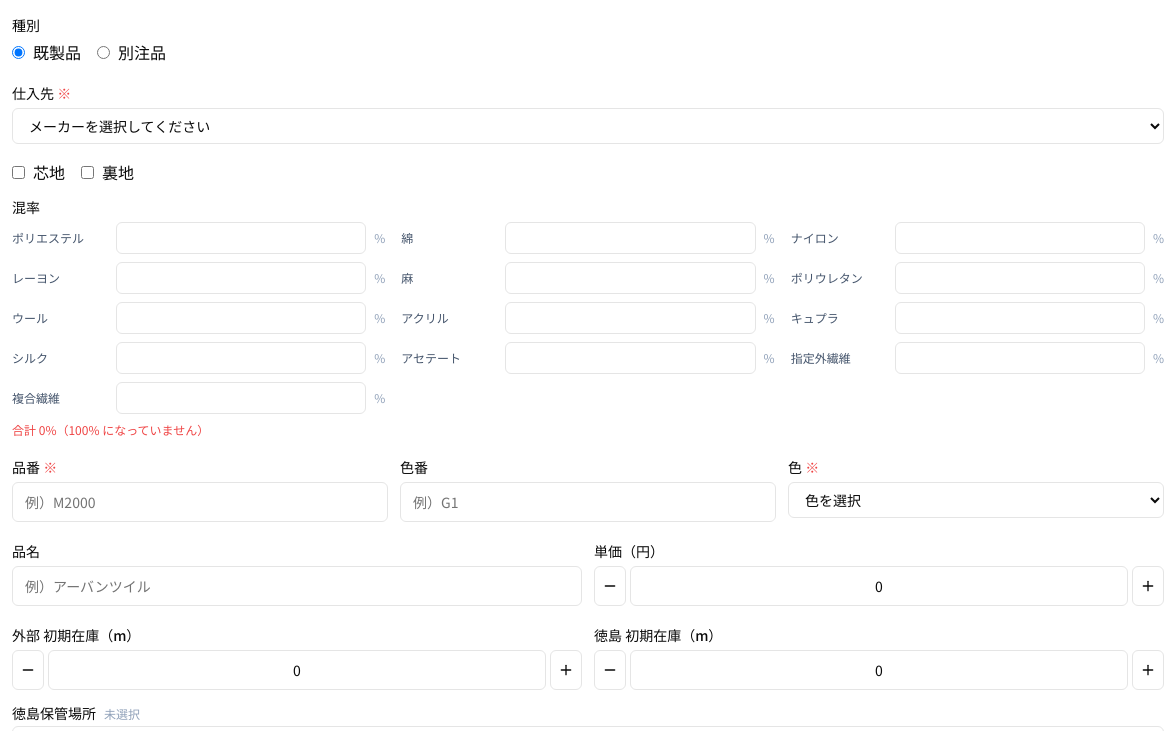
ProductForm › 種別が別注品のとき担当者フィールドが表示される
This screenshot has width=1176, height=731.
Click the radio button labelled "別注品" at (104,52), box x1=97 y1=46 x2=110 y2=58
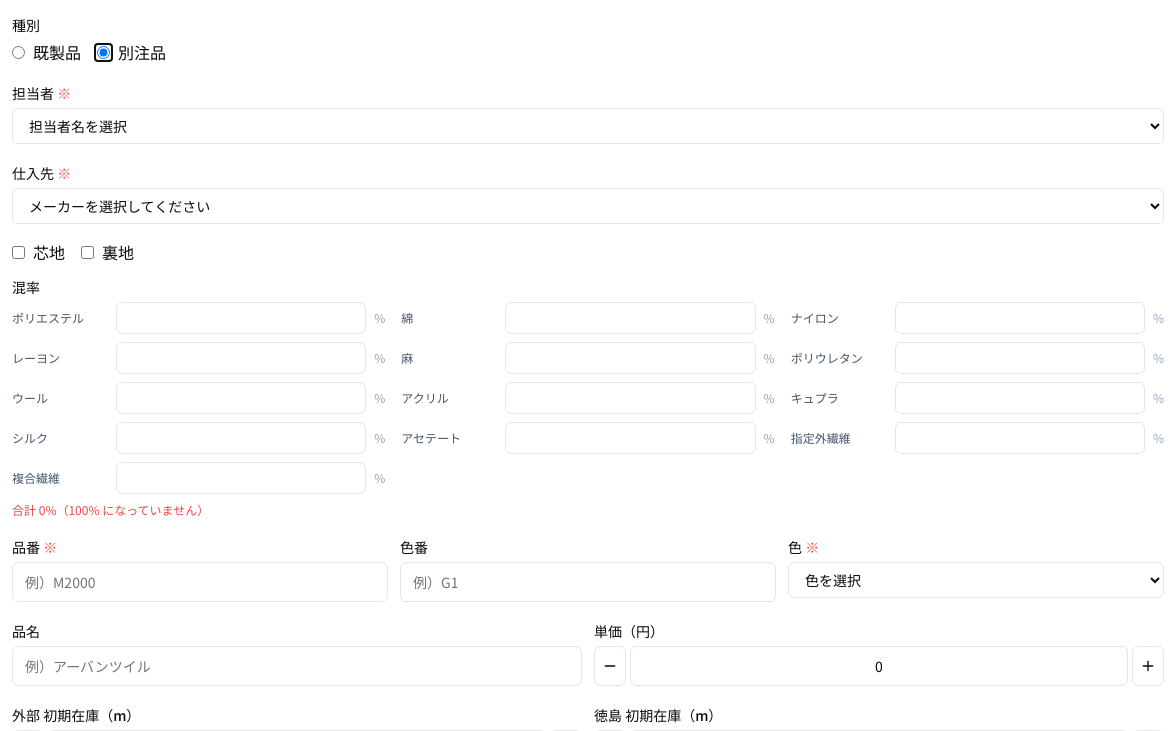
Result: the text "担当者" is shown at x1=12 y1=83 x2=57 y2=103
